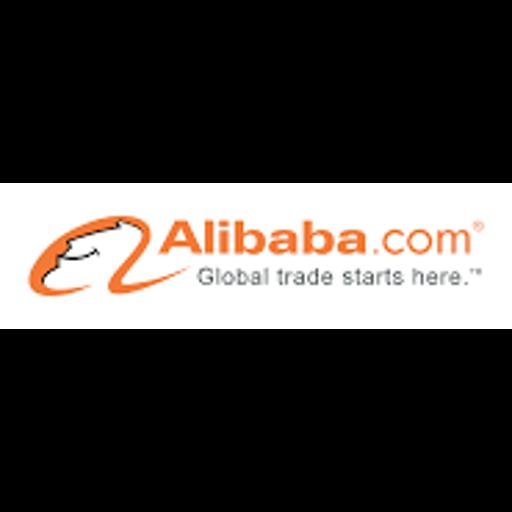Alibaba: (0, 183, 512, 329)
